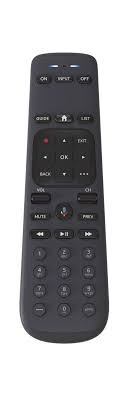remote control: (25, 49, 109, 345)
